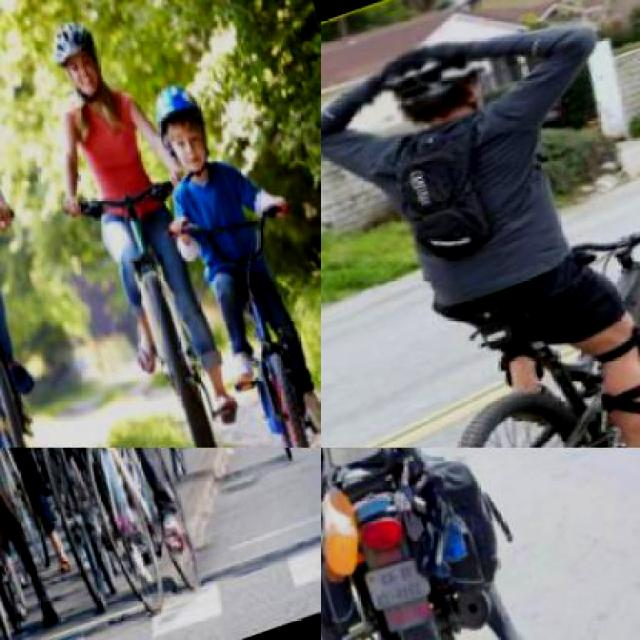With Helmet: (338, 15, 516, 154), (142, 73, 222, 175), (40, 10, 114, 105)
